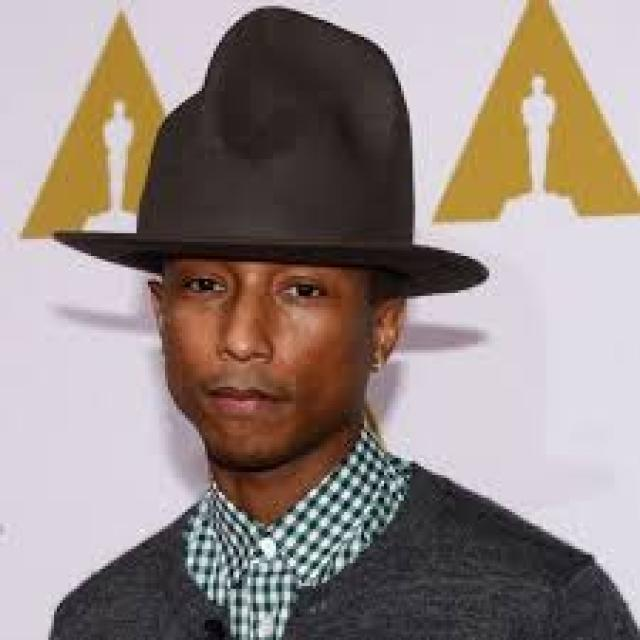cap: (37, 97, 521, 367)
